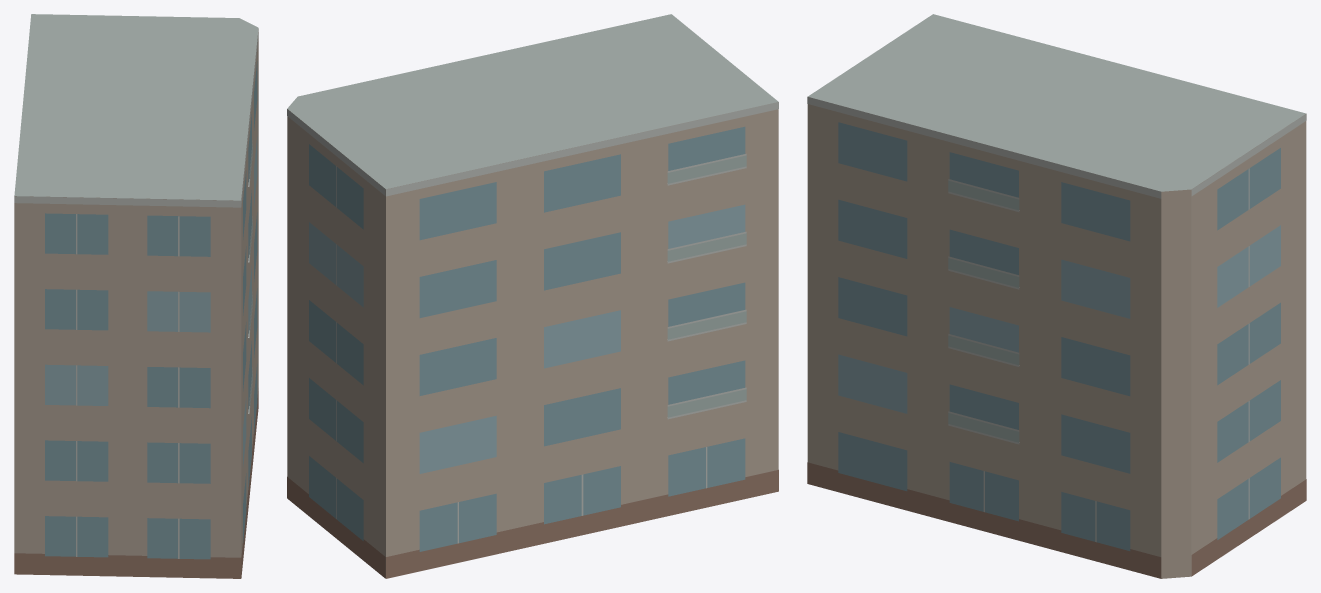
Rendered from survey-upis-32673779.glb.
3 views of the same model, side by side, from view 1: azimuth 30°, elevation 25°; view 2: azimuth 150°, elevation 25°; view 3: azimuth 270°, elevation 25° (orthographic). The views are drawn at different scales.
Visible parts, largest first — view 1: survey-upis-32673779.tmp; view 2: survey-upis-32673779.tmp; view 3: survey-upis-32673779.tmp.
Boxes of the visible parts, box(x1,y1,x2,y2) form: survey-upis-32673779.tmp: box(14, 14, 258, 578); survey-upis-32673779.tmp: box(287, 14, 778, 578); survey-upis-32673779.tmp: box(807, 14, 1306, 578).
Size of the model in its own units: 12.9 by 13.1 by 15.31.
